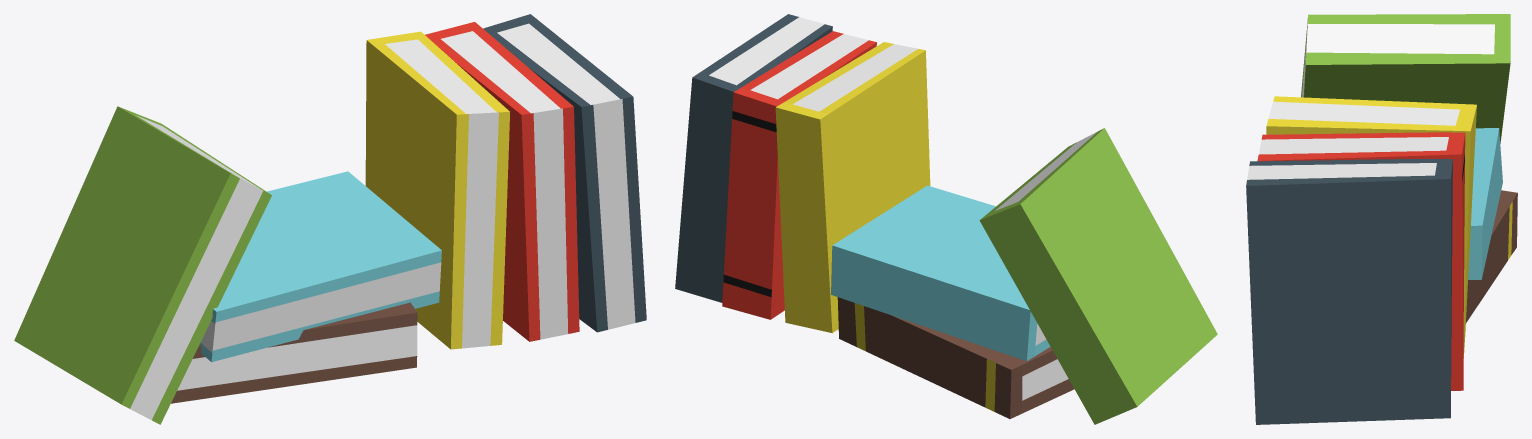
File: books1.glb
3 renders of one model, left to right at view 1: azimuth 30°, elevation 25°; view 2: azimuth 150°, elevation 25°; view 3: azimuth 270°, elevation 25°, orthographic. The views are drawn at different scales.
Parts seen in each view (by area): view 1: group624951879, group1274572461, group1445929716, group519634257, group59889140, group824283698; view 2: group624951879, group1274572461, group1445929716, group519634257, group59889140, group824283698; view 3: group59889140, group624951879, group519634257, group1274572461, group1445929716, group824283698.
Part boxes in pixels (<box>): group624951879: <box>14,106,271,424</box>; group1274572461: <box>365,31,509,349</box>; group1445929716: <box>199,171,441,362</box>; group519634257: <box>425,22,579,341</box>; group59889140: <box>483,14,646,332</box>; group824283698: <box>171,302,417,403</box>; group624951879: <box>979,128,1217,424</box>; group1274572461: <box>775,42,930,333</box>; group1445929716: <box>831,185,1050,361</box>; group519634257: <box>722,31,876,319</box>; group59889140: <box>675,14,832,302</box>; group824283698: <box>837,297,1074,418</box>; group59889140: <box>1246,159,1452,424</box>; group624951879: <box>1301,14,1510,143</box>; group519634257: <box>1257,132,1465,390</box>; group1274572461: <box>1266,96,1476,357</box>; group1445929716: <box>1468,128,1502,279</box>; group824283698: <box>1466,190,1517,322</box>.
Bounding box in the file's own units: 0.1141 × 0.054 × 0.0524.
